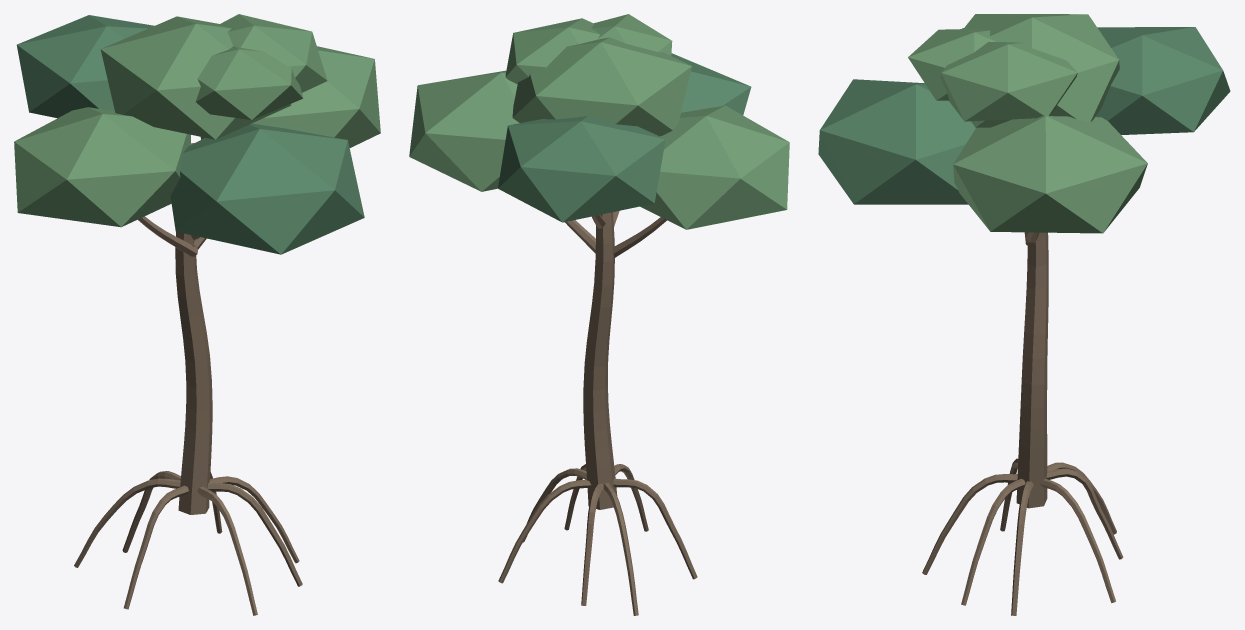
The model's file is SM_Mangrove_A.fbx.
3 views of the same model, side by side, from view 1: azimuth 30°, elevation 25°; view 2: azimuth 150°, elevation 25°; view 3: azimuth 270°, elevation 25° (orthographic). The views are drawn at different scales.
Parts seen in each view (by area): view 1: SM_Mangrove_A; view 2: SM_Mangrove_A; view 3: SM_Mangrove_A.
Boxes of the visible parts, x1,y1,x2,y2 form: SM_Mangrove_A: (14,14,380,615); SM_Mangrove_A: (409,14,789,615); SM_Mangrove_A: (818,14,1230,615).
Bounding box in the file's own units: 8.5 × 12.09 × 8.14.
